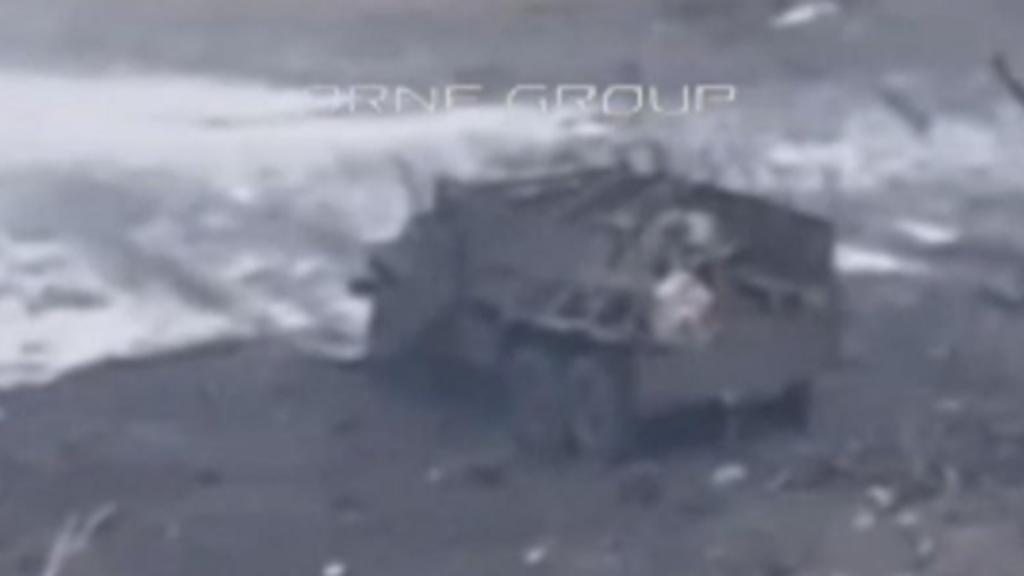TRUCK: (360, 156, 844, 460)
